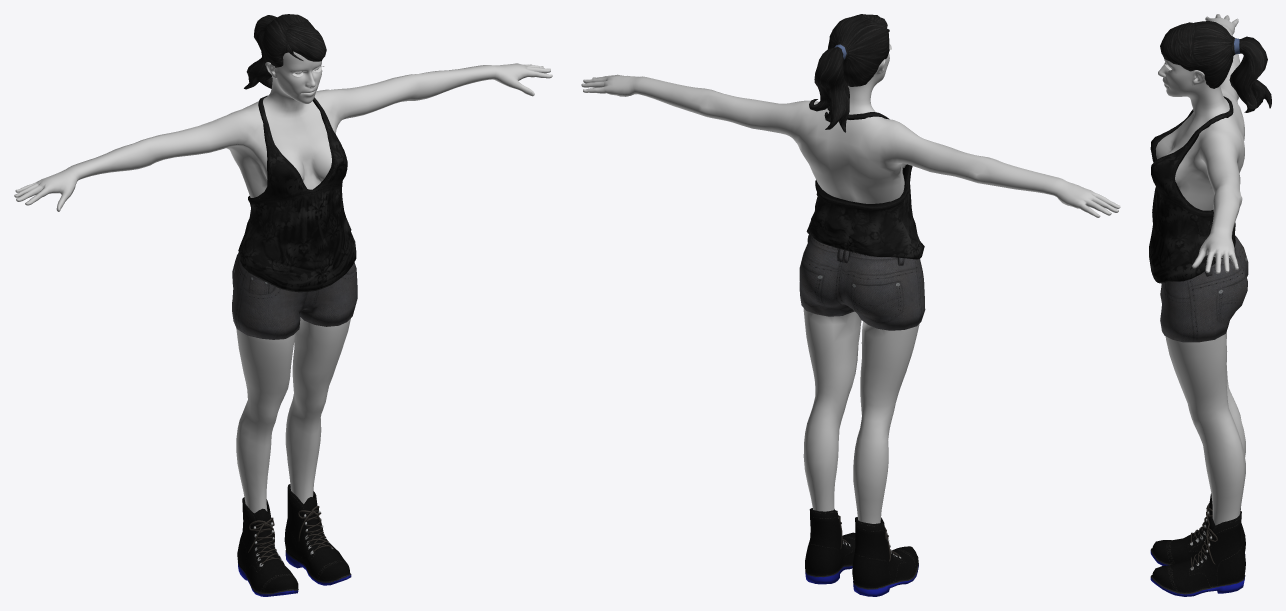
File: tenth_clothes_hair.obj
The picture shows the model from 3 angles, left to right: view 1: azimuth 30°, elevation 25°; view 2: azimuth 150°, elevation 25°; view 3: azimuth 270°, elevation 25°; orthographic projection.
Visible parts, largest first — view 1: Body, Tops, Shoes, Bottoms, Hair; view 2: Body, Bottoms, Shoes, Tops, Hair; view 3: Body, Tops, Shoes, Bottoms, Hair.
Boxes of the visible parts, bbox=[...] form: Body: bbox=[14, 51, 552, 513]; Tops: bbox=[238, 95, 356, 292]; Shoes: bbox=[237, 484, 351, 596]; Bottoms: bbox=[232, 253, 357, 339]; Hair: bbox=[244, 14, 326, 89]; Body: bbox=[581, 53, 1120, 523]; Bottoms: bbox=[799, 234, 925, 330]; Shoes: bbox=[805, 508, 918, 596]; Tops: bbox=[806, 106, 924, 259]; Hair: bbox=[809, 14, 889, 132]; Body: bbox=[1155, 14, 1245, 525]; Tops: bbox=[1149, 96, 1235, 283]; Shoes: bbox=[1150, 493, 1245, 596]; Bottoms: bbox=[1160, 235, 1248, 342]; Hair: bbox=[1160, 21, 1271, 112].
Bounding box in the file's own units: 17.95 × 17.91 × 3.61.
